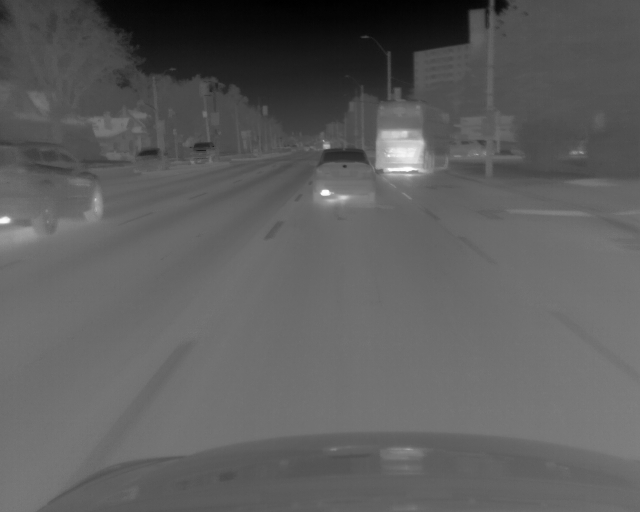car: (1, 141, 105, 236), (373, 100, 452, 177), (313, 147, 379, 208), (133, 148, 166, 172), (188, 142, 215, 167)
